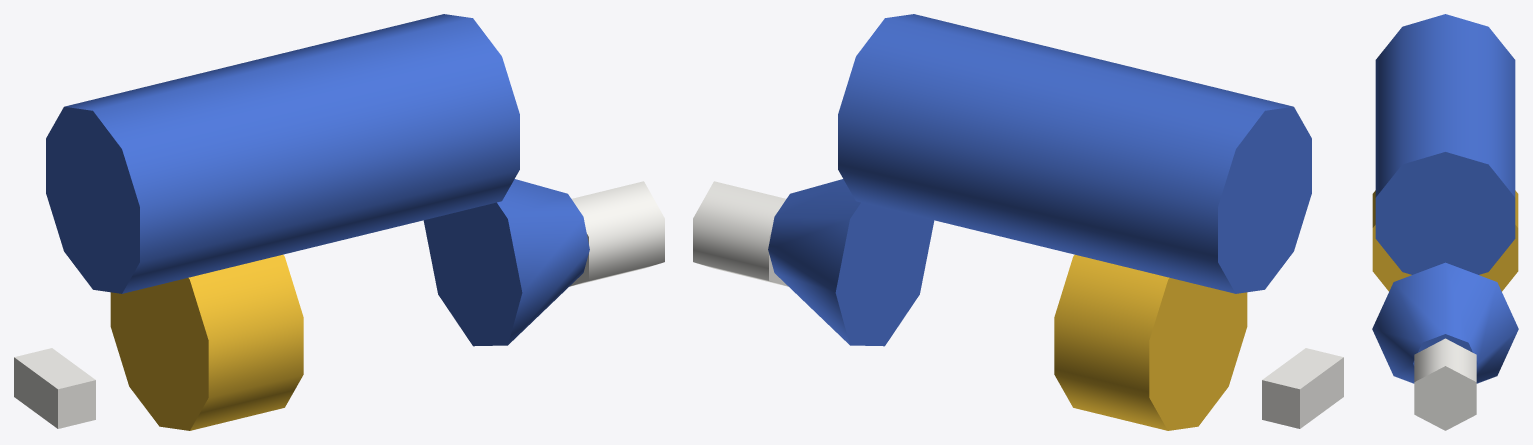
Rendered from paint_tube.glb.
The picture shows the model from 3 angles, left to right: view 1: azimuth 30°, elevation 25°; view 2: azimuth 150°, elevation 25°; view 3: azimuth 270°, elevation 25°; orthographic projection. The views are drawn at different scales.
Parts seen in each view (by area): view 1: root; view 2: root; view 3: root.
Boxes of the visible parts, x1,y1,x2,y2 form: root: (14, 14, 664, 430); root: (693, 14, 1343, 430); root: (1372, 14, 1518, 430).
Bounding box in the file's own units: 0.32 × 0.167 × 0.09.
